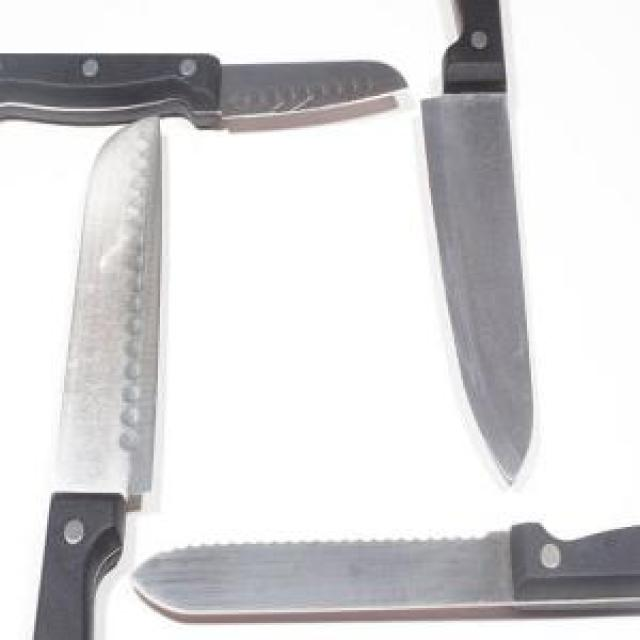knife: (32, 115, 164, 638), (130, 512, 638, 634), (418, 2, 538, 487), (0, 53, 407, 131)
